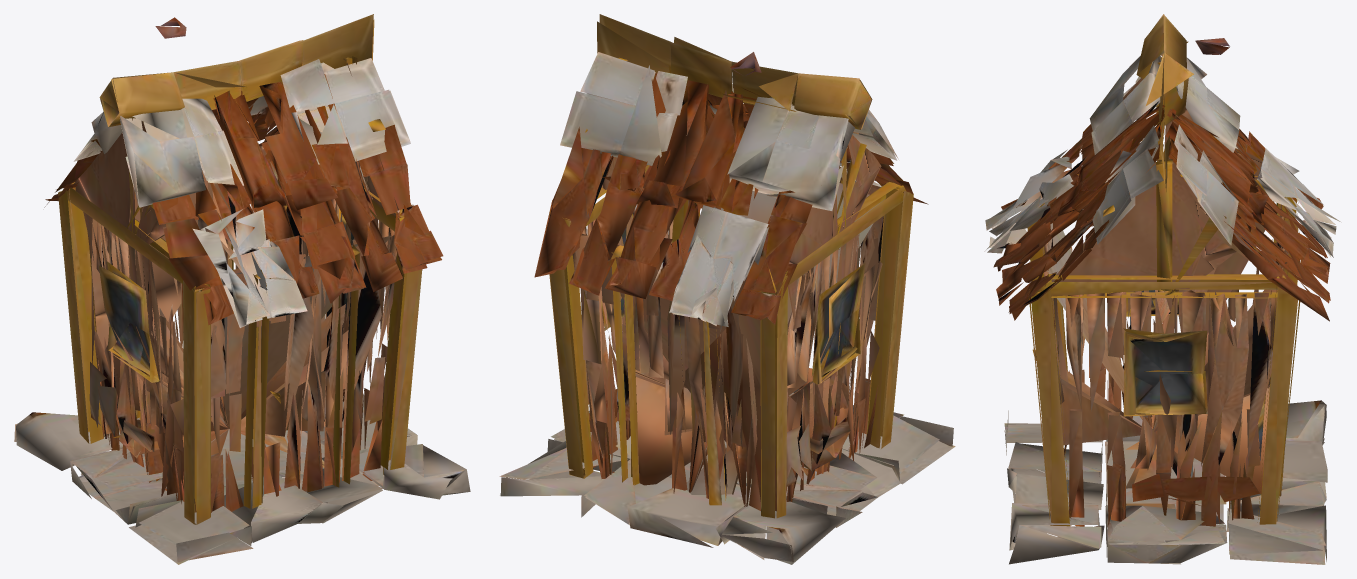
File: house-shed.lod1.glb
3 renders of one model, left to right at view 1: azimuth 30°, elevation 25°; view 2: azimuth 150°, elevation 25°; view 3: azimuth 270°, elevation 25°, orthographic.
Visible parts, largest first — view 1: house-shed_lod1; view 2: house-shed_lod1; view 3: house-shed_lod1.
Part boxes in pixels (x1,y1,x2,y2): house-shed_lod1: (14, 14, 470, 564); house-shed_lod1: (499, 14, 955, 564); house-shed_lod1: (984, 14, 1341, 564).
Size of the model in its own units: 2.83 by 4.03 by 3.
Materials: 1 (1 with a texture image).
